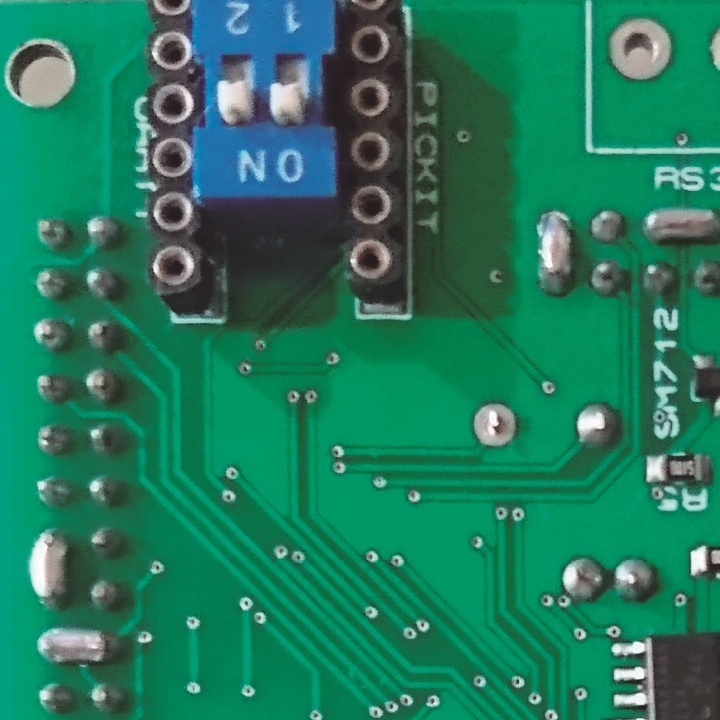F: (605, 15, 679, 85), (470, 403, 519, 449)
P: (527, 206, 579, 298), (31, 625, 127, 670), (25, 526, 72, 612), (638, 203, 720, 246)
